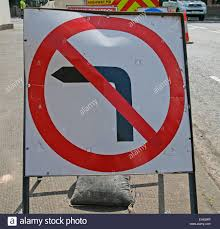No_left_turn: (27, 16, 185, 172)
